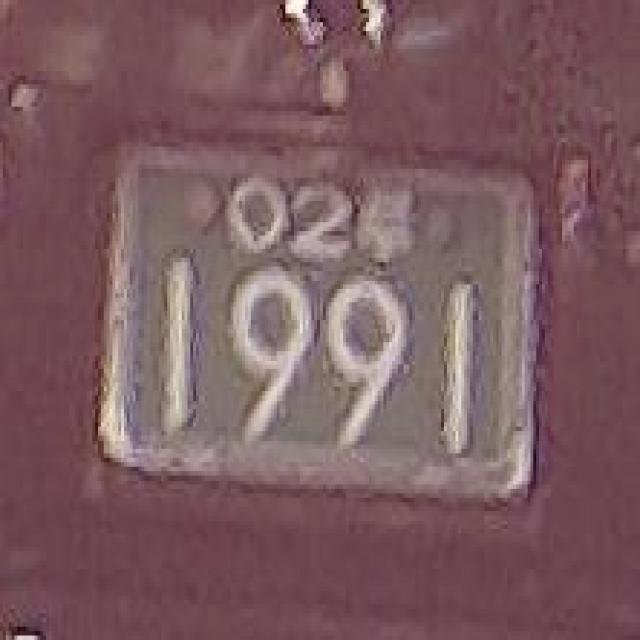illegal_plate: (93, 105, 552, 549)
